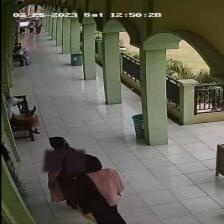Cadar_Niqab: (42, 138, 86, 171)
